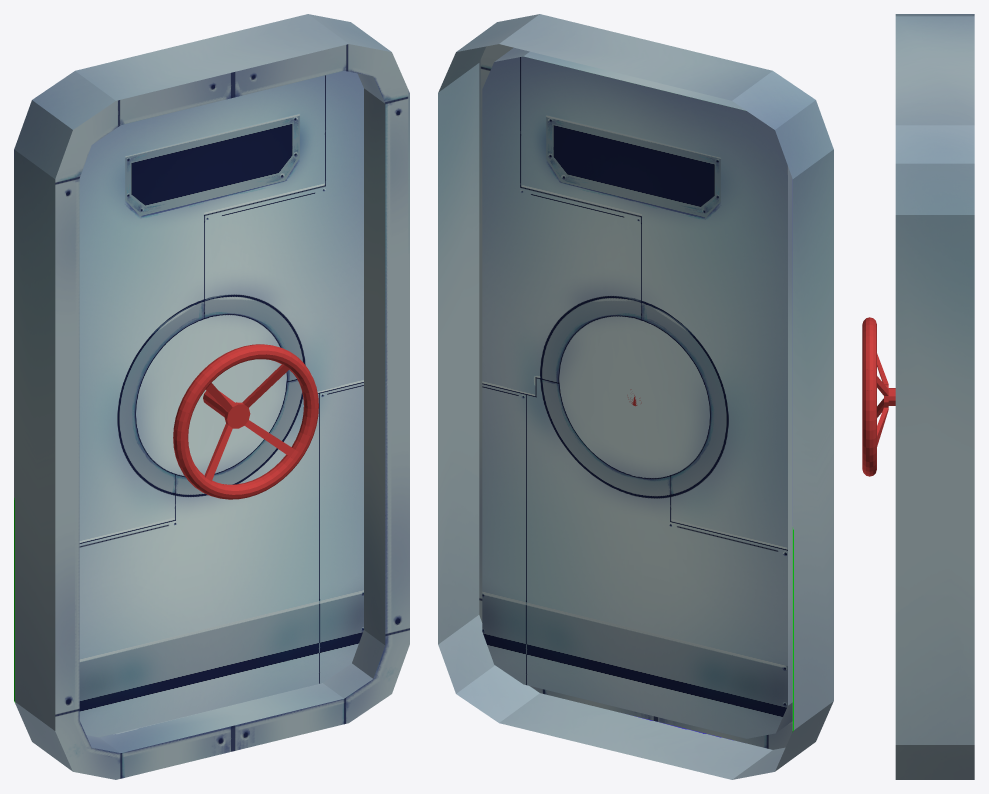
Rendered from exitdoor.fbx.
The picture shows the model from 3 angles, left to right: view 1: azimuth 30°, elevation 25°; view 2: azimuth 150°, elevation 25°; view 3: azimuth 270°, elevation 25°; orthographic projection. The views are drawn at different scales.
Parts seen in each view (by area): view 1: Surface, Frame, Wheel; view 2: Surface, Frame; view 3: Frame, Wheel.
Boxes of the visible parts, box(x1,y1,x2,y2) form: Surface: box(79, 71, 363, 737); Frame: box(14, 14, 409, 779); Wheel: box(173, 344, 318, 499); Surface: box(482, 56, 787, 738); Frame: box(438, 14, 833, 779); Frame: box(895, 14, 974, 779); Wheel: box(862, 317, 895, 476).
Size of the model in its own units: 109 by 200 by 31.15.
